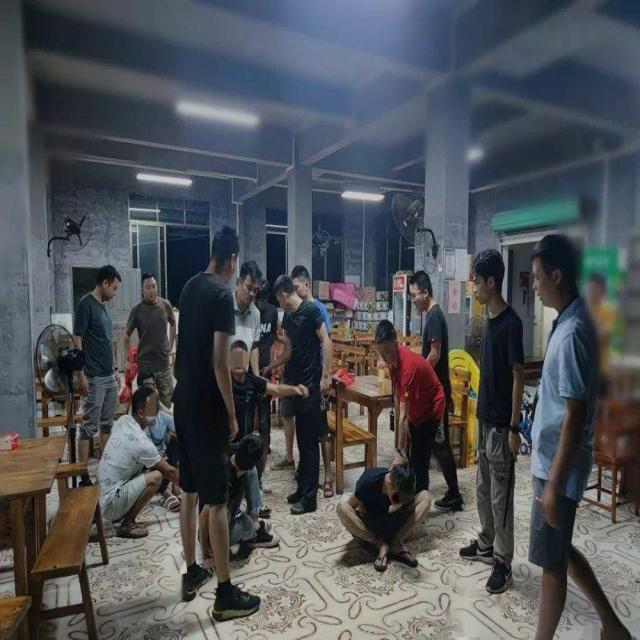non-fight: (171, 227, 259, 619), (524, 230, 608, 639), (364, 276, 453, 576), (462, 245, 524, 595), (272, 265, 332, 514), (72, 260, 124, 486)
